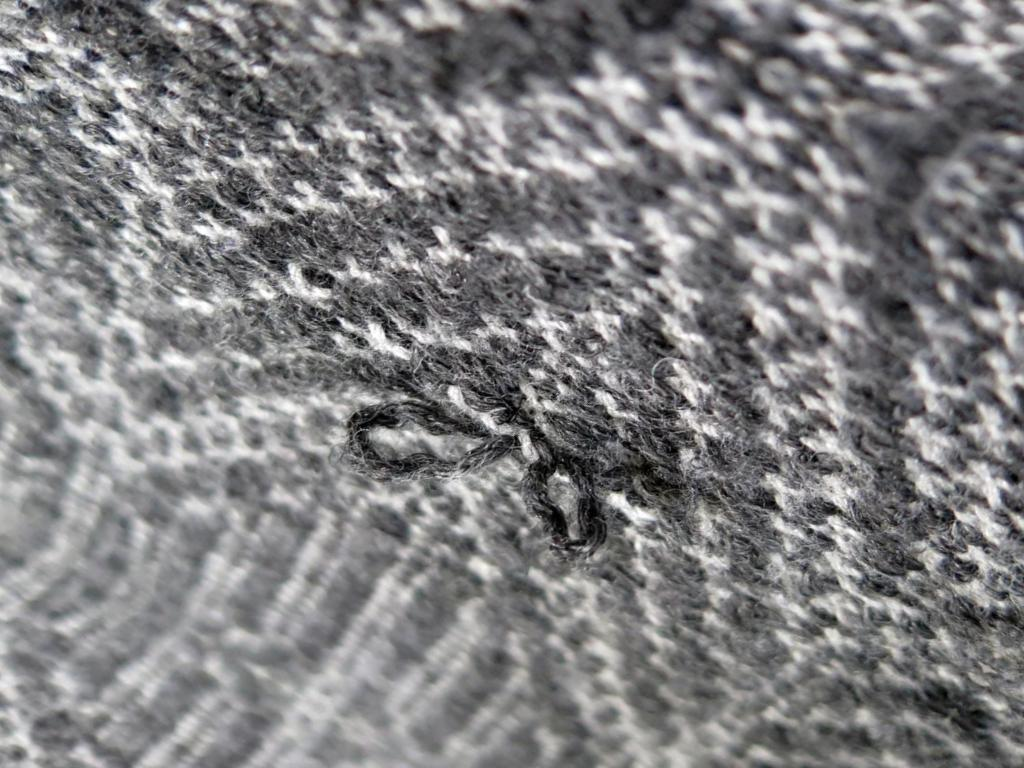snag: (340, 369, 517, 487), (514, 437, 625, 568)
